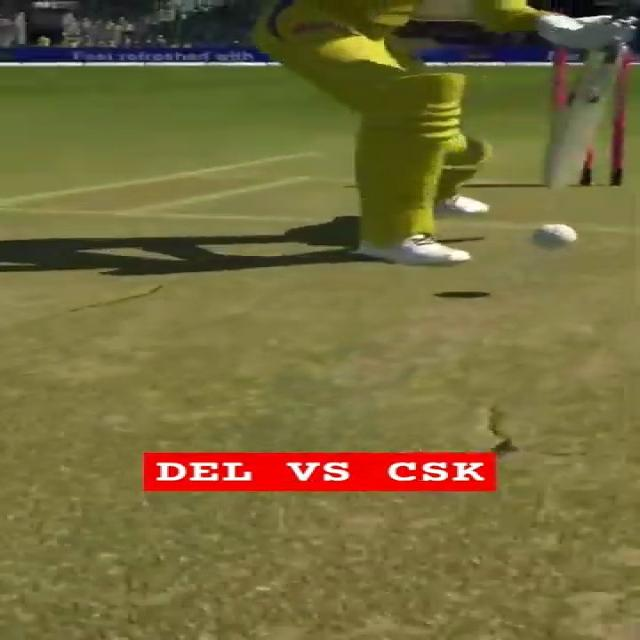ball: (524, 222, 580, 252)
